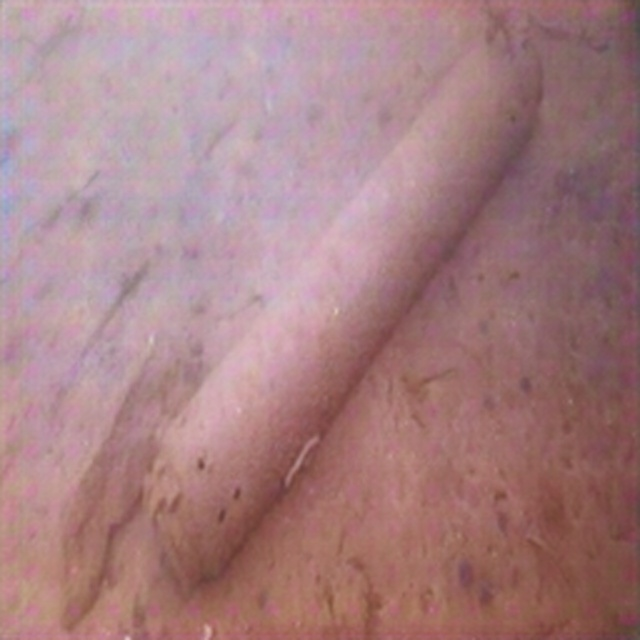mine: (142, 23, 544, 592)
